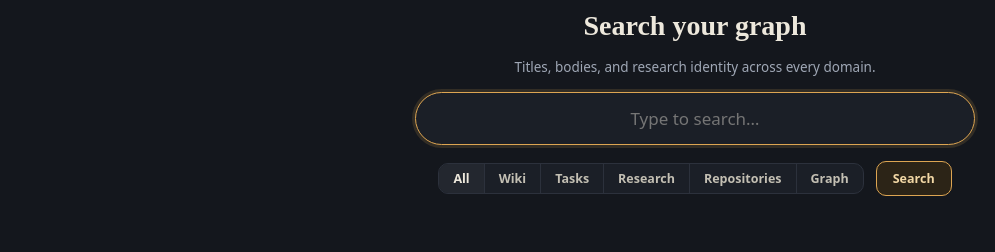
Test case: renders an error state when the search request fails
In the field labelled "search": [695, 118] box [415, 92, 975, 145], type "attention"
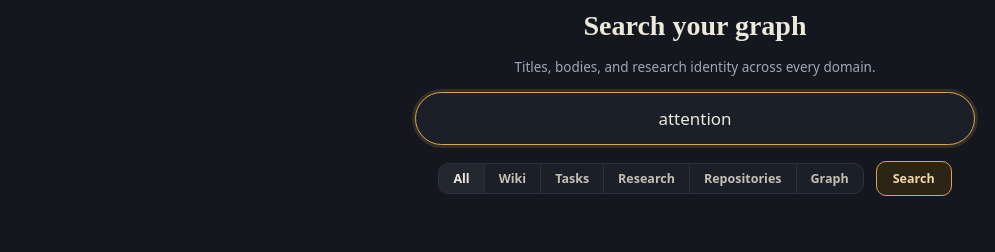
Click the button "Search": [914, 178] box [876, 161, 952, 196]
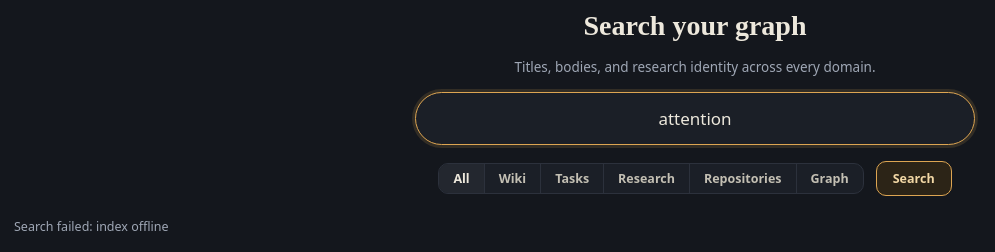
Now the message shows "Search failed", box [14, 218, 96, 235]
Now the message shows "index offline", box [96, 218, 169, 235]
